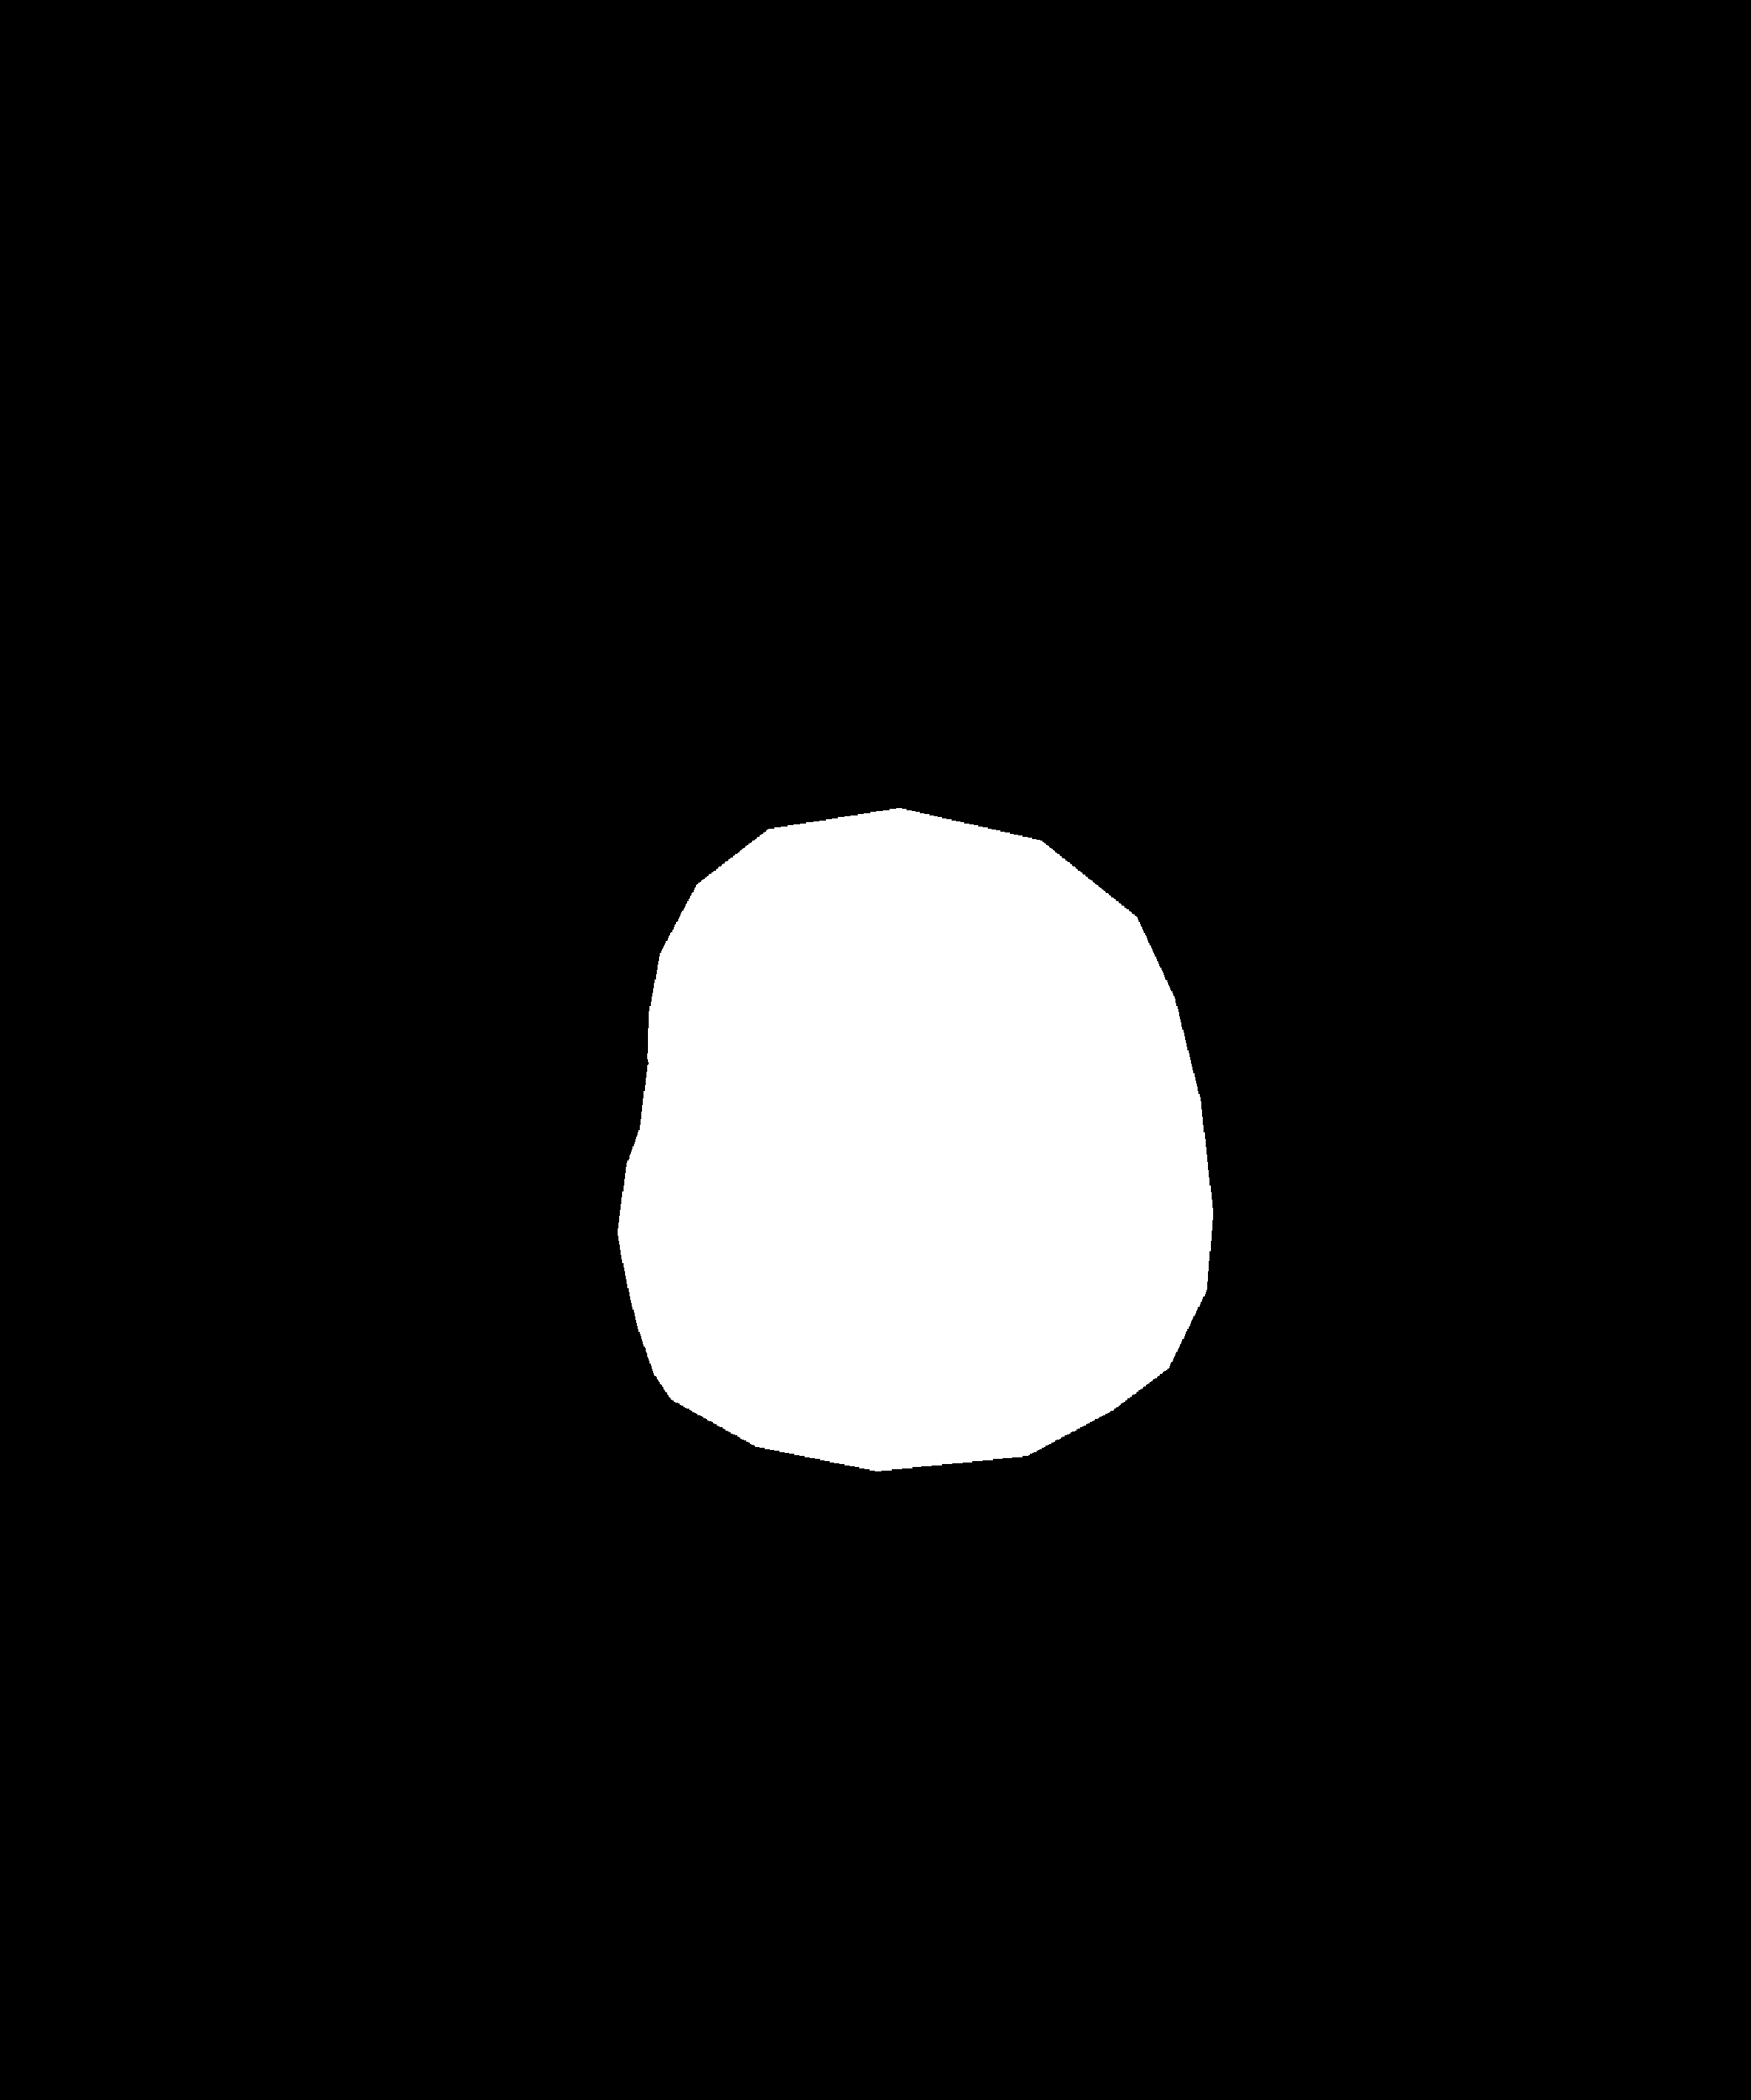heart: (649, 884, 1209, 1385)
left_lung: (248, 302, 764, 1517)
right_lung: (1010, 176, 1495, 1613)
